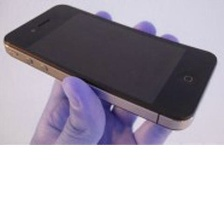phone: (0, 0, 220, 135)
